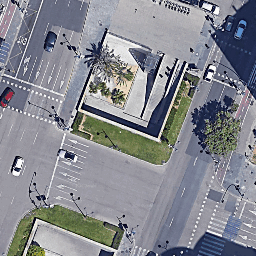car: (56, 148, 79, 162), (10, 155, 24, 177), (43, 30, 57, 52), (234, 19, 248, 40), (1, 88, 16, 107), (200, 1, 220, 14), (203, 64, 217, 82), (225, 14, 235, 32)
